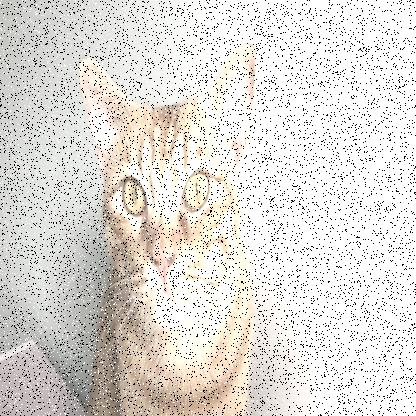cat: (66, 32, 276, 416)
